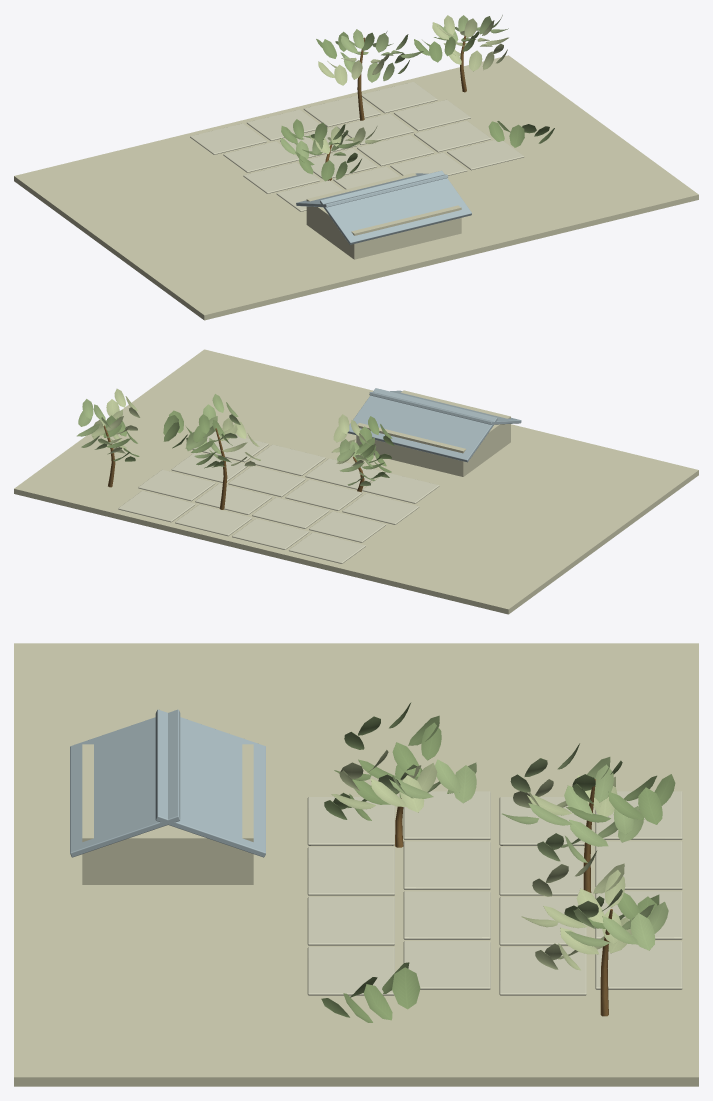
File: entry-garden-v11.glb
3 renders of one model, top to bottom at view 1: azimuth 30°, elevation 25°; view 2: azimuth 150°, elevation 25°; view 3: azimuth 270°, elevation 25°, orthographic. The views are drawn at different scales.
Visible parts, largest first — view 1: entry-garden-v11; view 2: entry-garden-v11; view 3: entry-garden-v11.
Boxes of the visible parts, x1,y1,x2,y2 form: entry-garden-v11: (14,15,698,320); entry-garden-v11: (14,349,698,614); entry-garden-v11: (14,643,698,1086).
Size of the model in its own units: 6 by 1.17 by 4.
7 materials, 4 textured.
